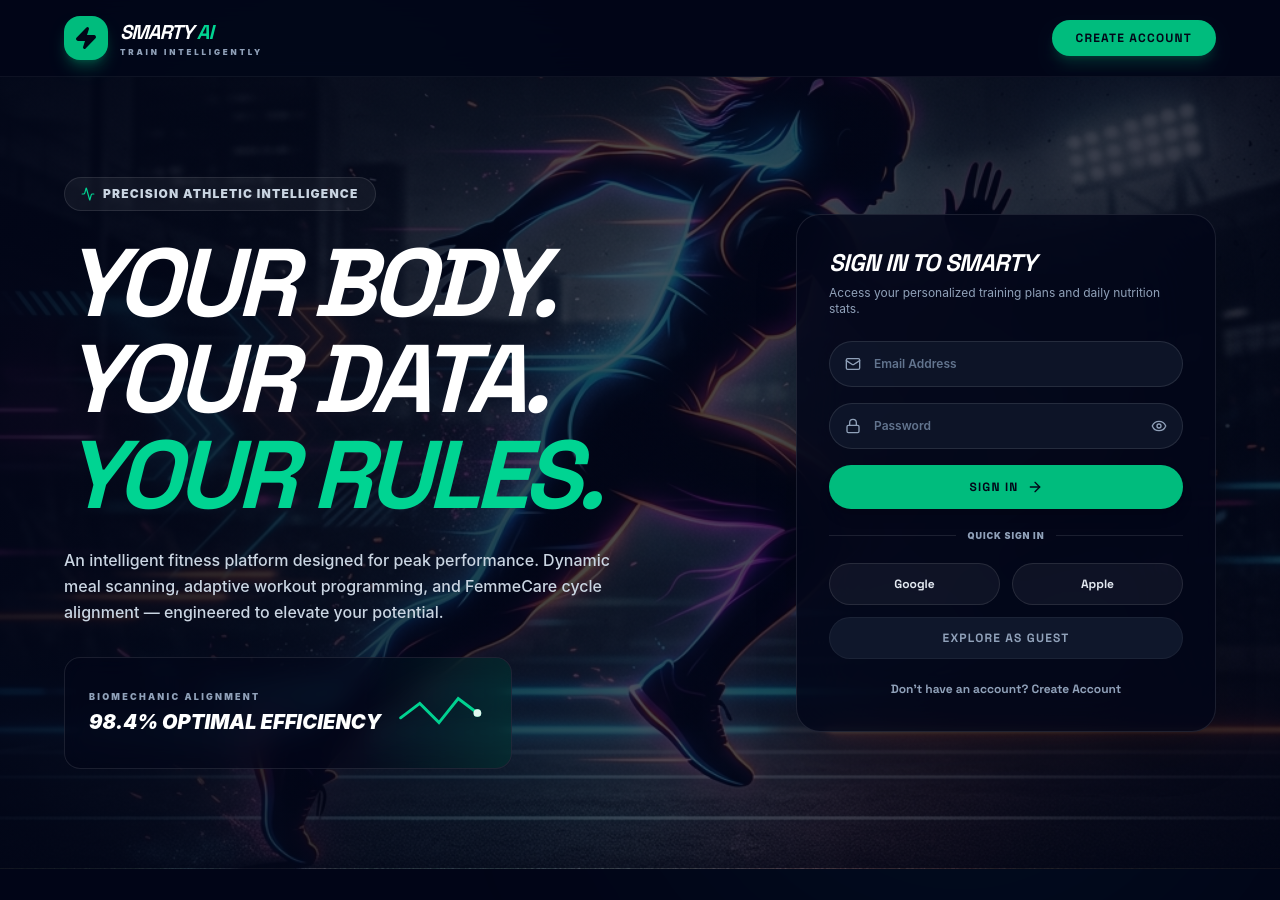
Test case: LoginPage Component › toggles to registration form
Click the button "Create Account". click: (1134, 38)
box: 1052,20 -> 1216,56
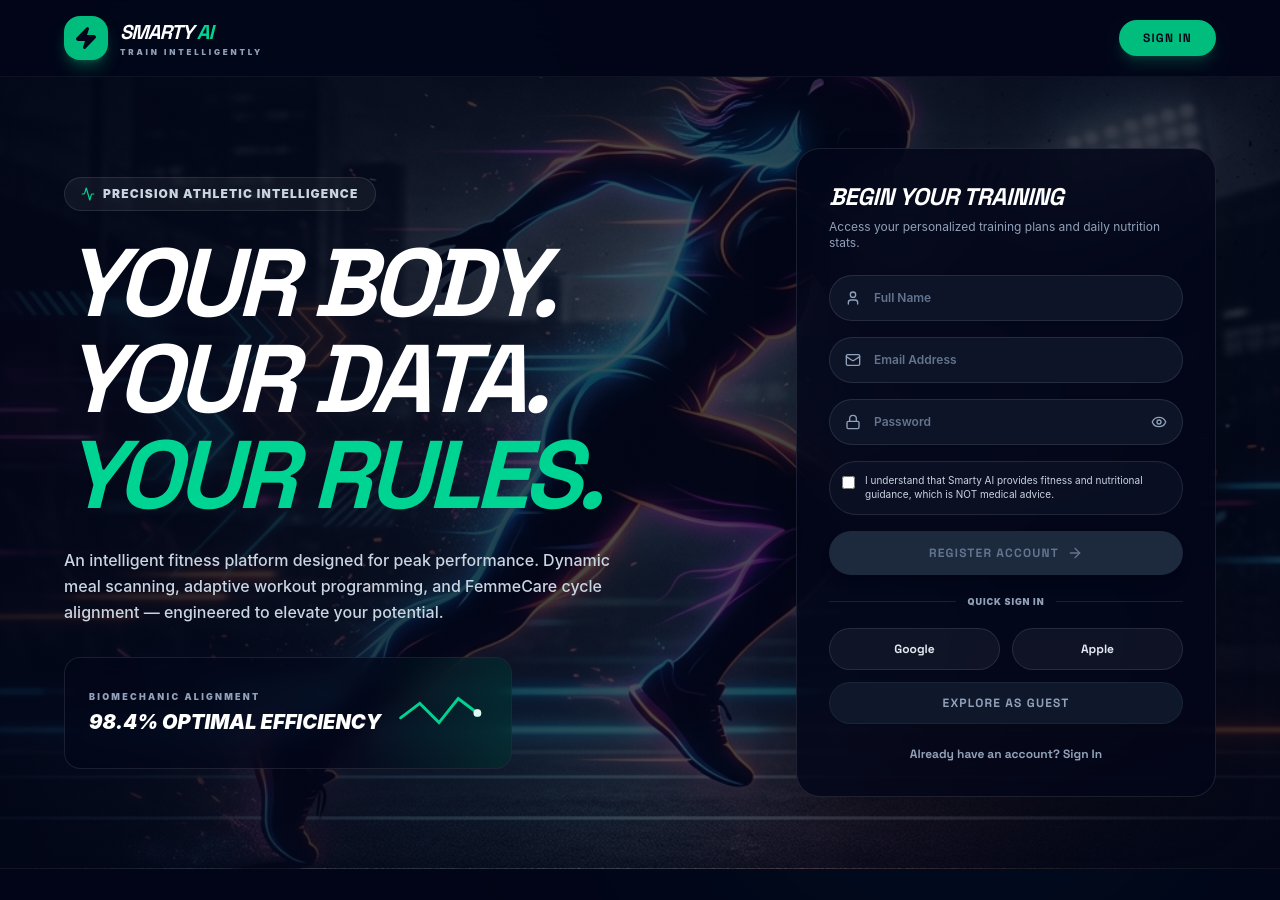
Expected: the field with placeholder "Full Name" is shown, 829,275 -> 1183,321
Expected: the button "Register Account" is shown, 829,530 -> 1183,574
